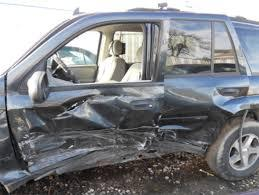doorouter-dent: (13, 86, 155, 163), (165, 87, 224, 158)
